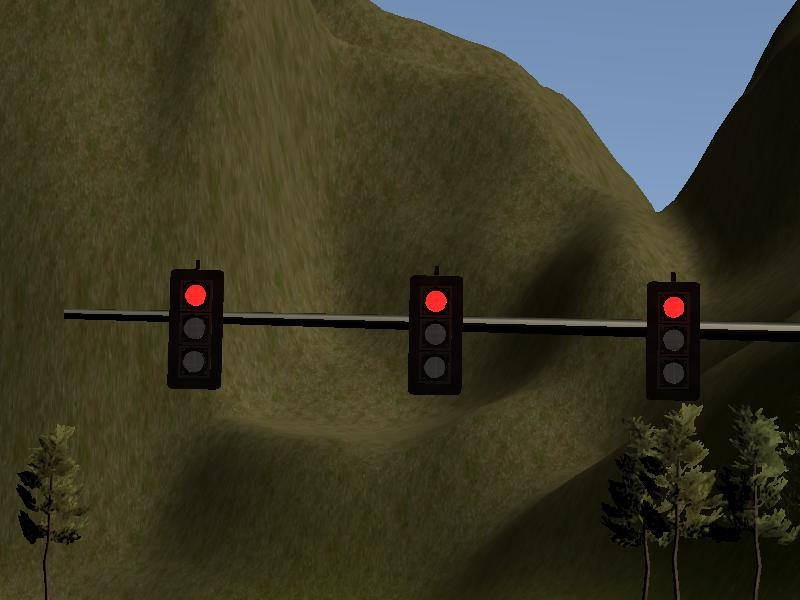RED: (406, 274, 462, 392), (167, 267, 223, 385), (644, 279, 681, 371)
